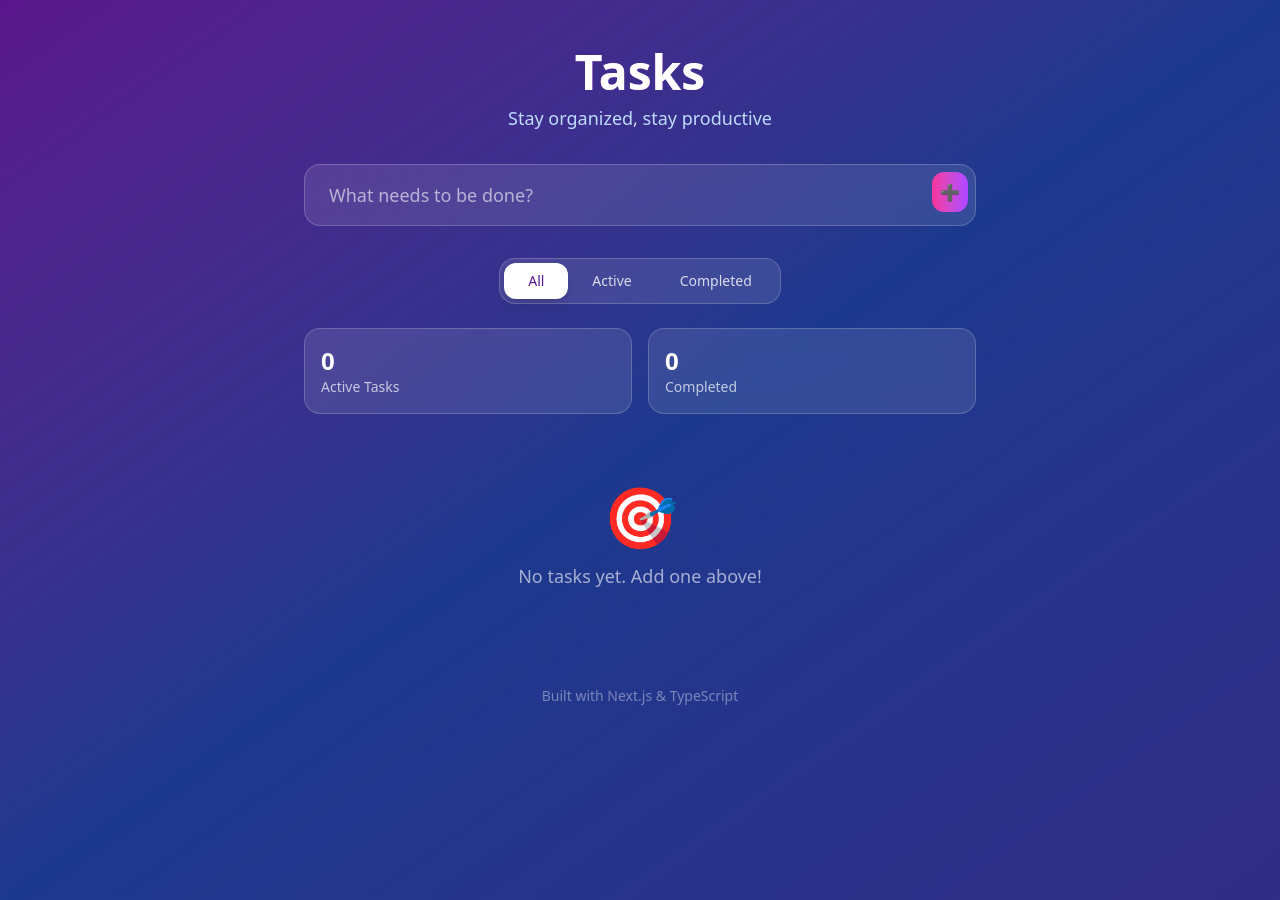
Test: TodoApp › adds a new todo item
Type "Buy milk" into the field with placeholder "What needs to be done?" at (640, 195), box [304,164,976,226]
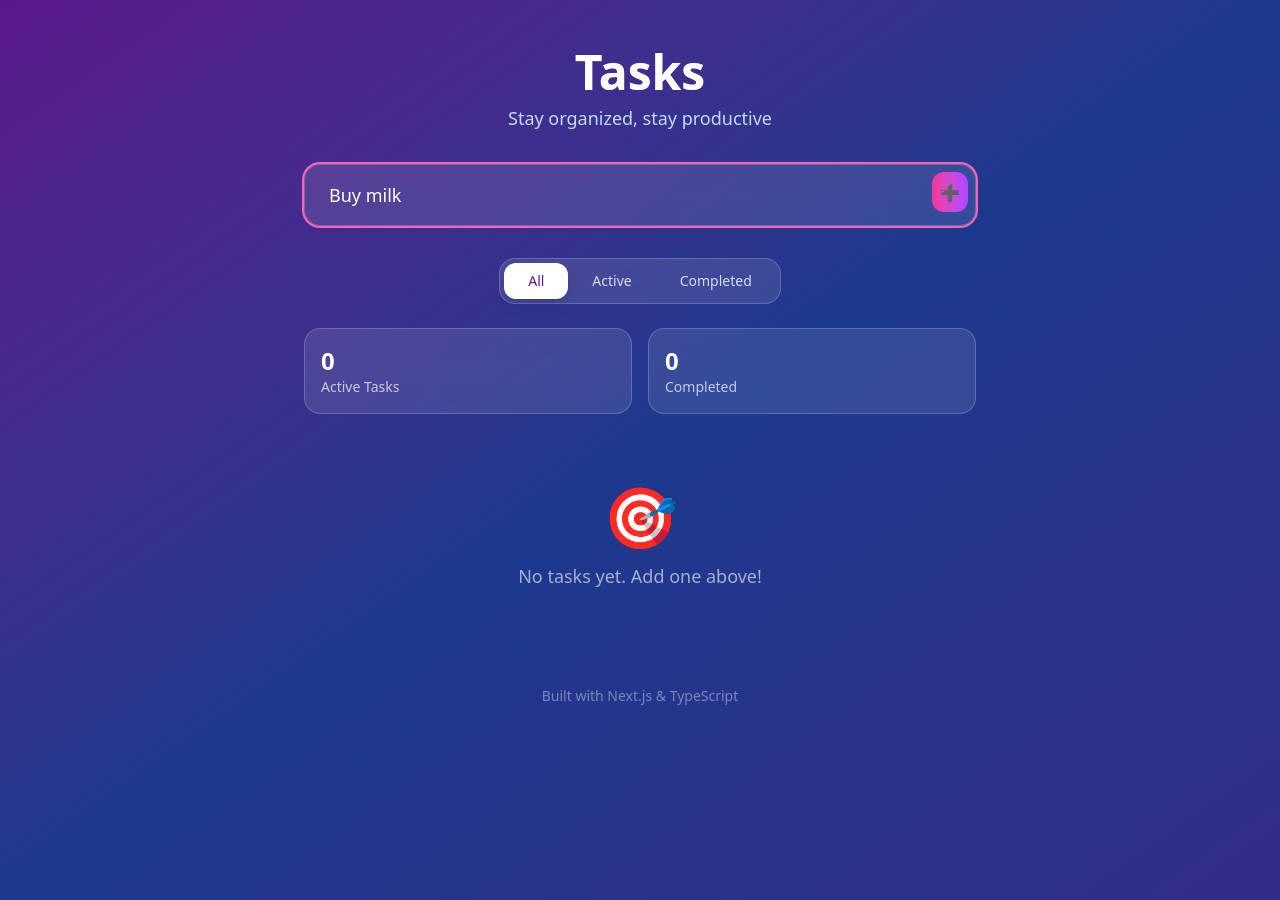
Click the button "➕" at (950, 192), box [932,172,968,212]
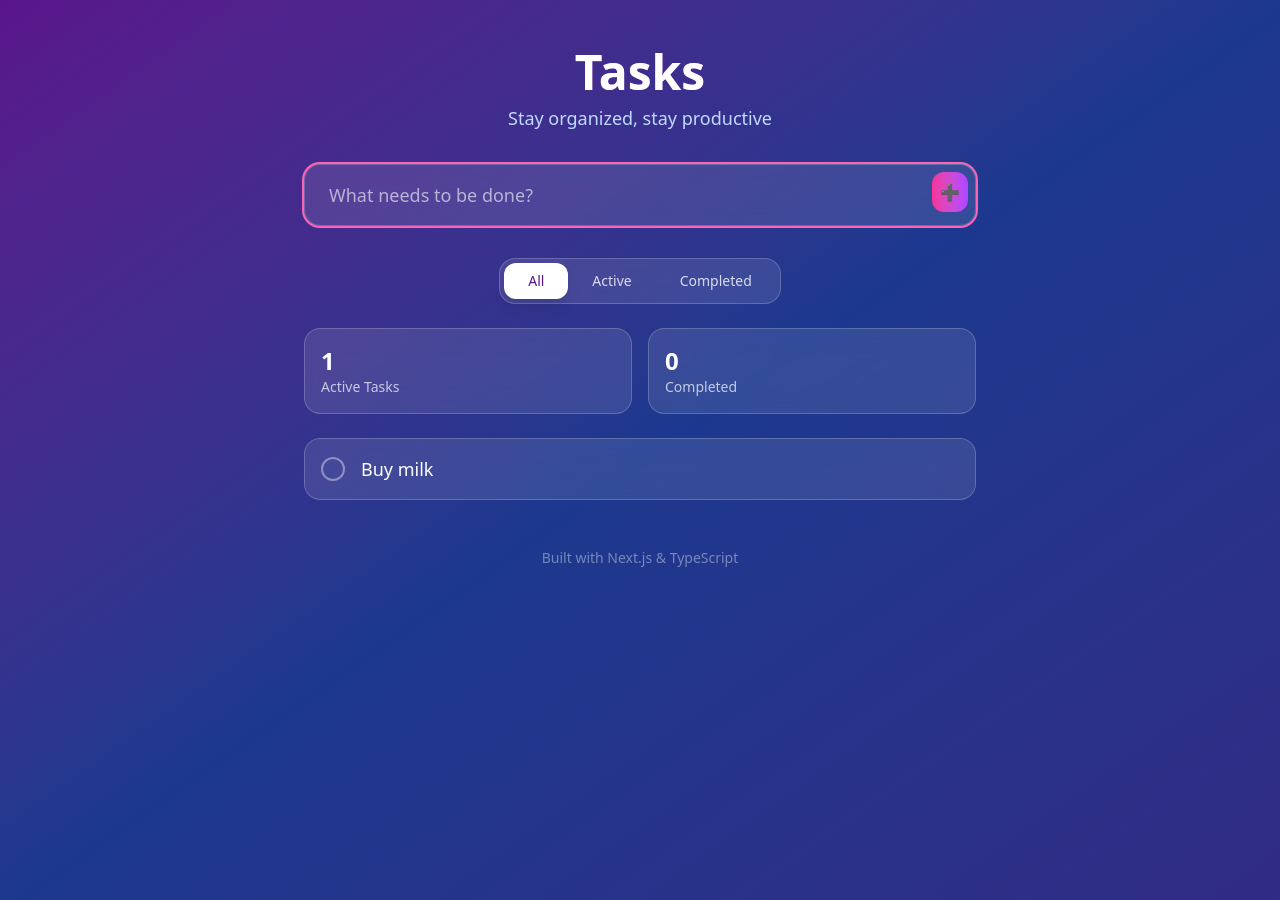
Now the text "Buy milk" is shown, box [361,457,433,481]
